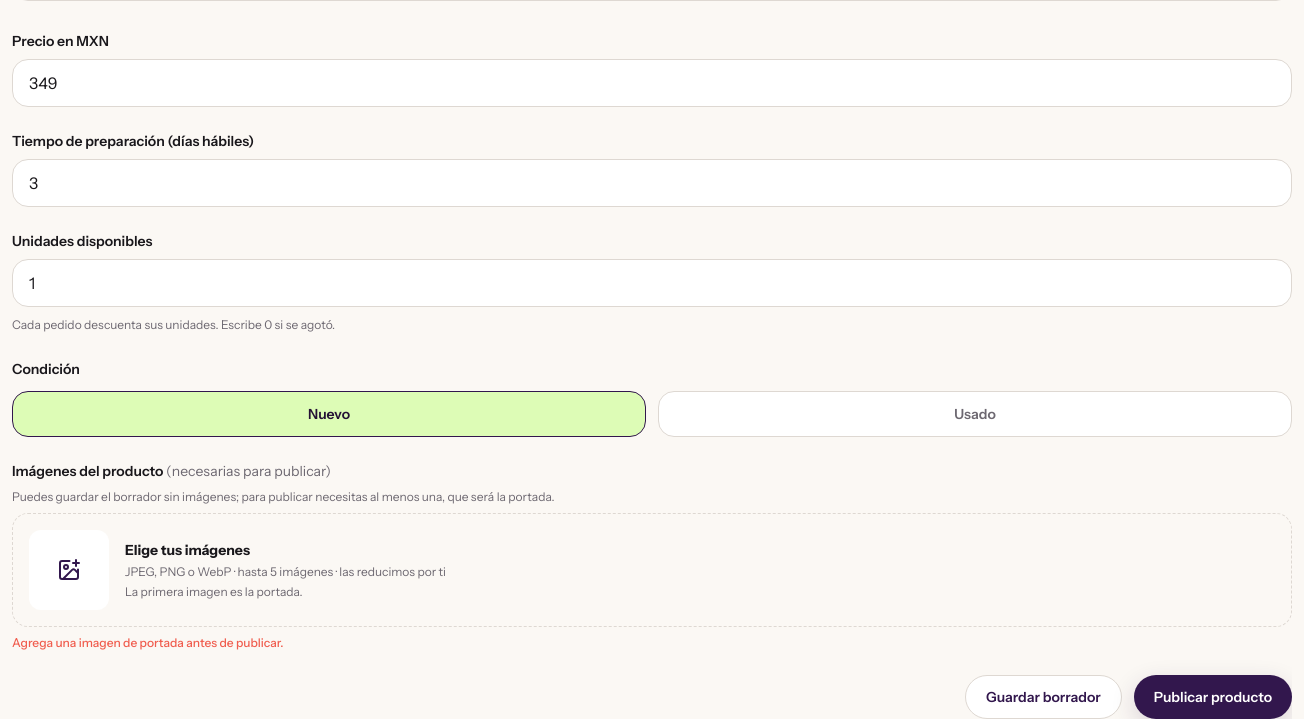
Test case: ProductForm › keeps the draft usable and explains the next requirement after saving
The width and height of the screenshot is (1304, 719).
(page scrolled)
Click the button "Guardar borrador" at (1043, 697), box x1=965 y1=675 x2=1122 y2=718
(page scrolled)
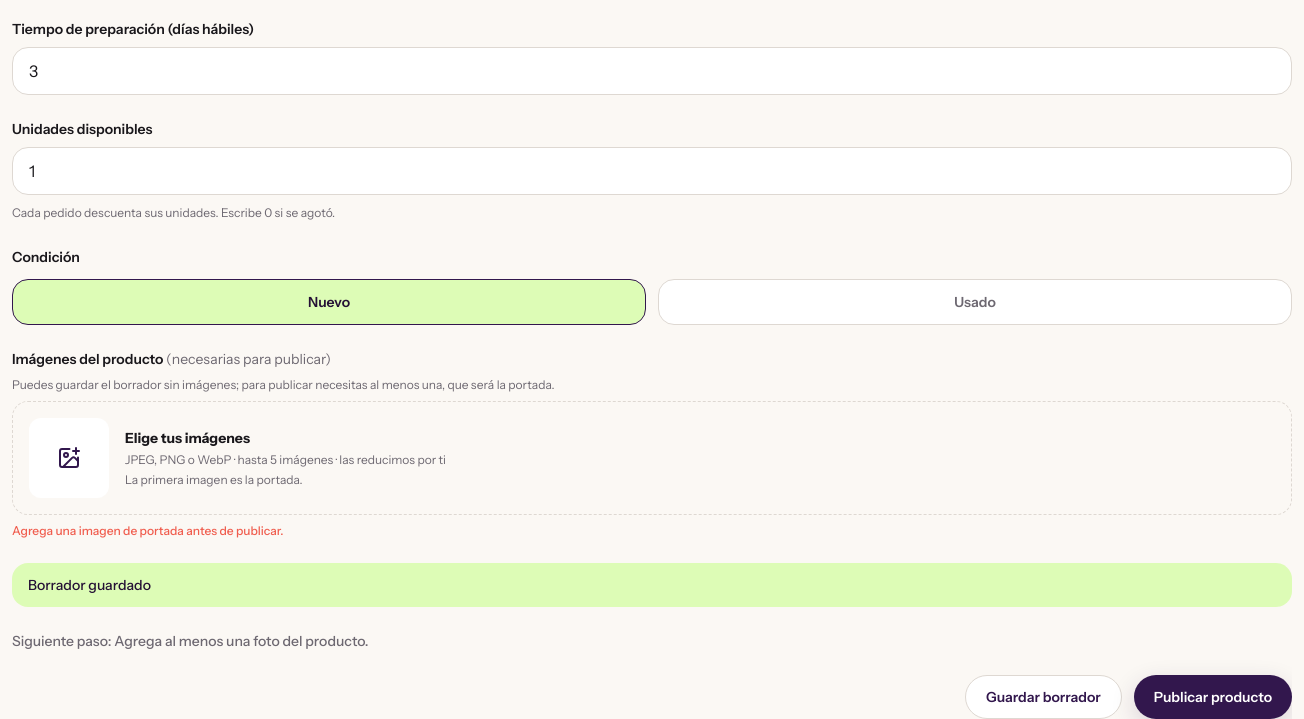
Expected: the button "Publicar producto" is enabled, x1=1134 y1=675 x2=1292 y2=718
Expected: the text "Borrador guardado" is shown, x1=12 y1=563 x2=1292 y2=607
Expected: the text "Siguiente paso: Agrega al menos una foto del producto." is shown, x1=12 y1=632 x2=369 y2=650
